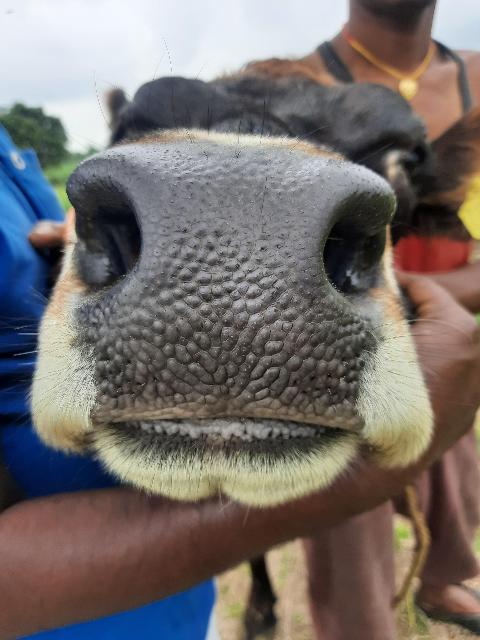Muzzle: (104, 153, 348, 419)
